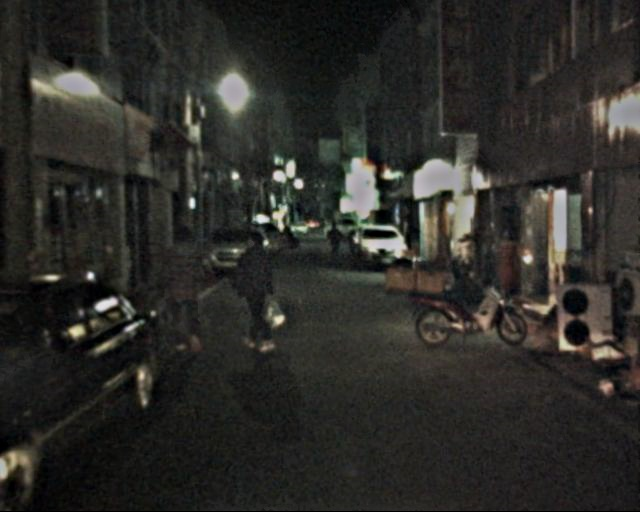person: (158, 225, 211, 357), (230, 230, 282, 350), (326, 221, 343, 262)
